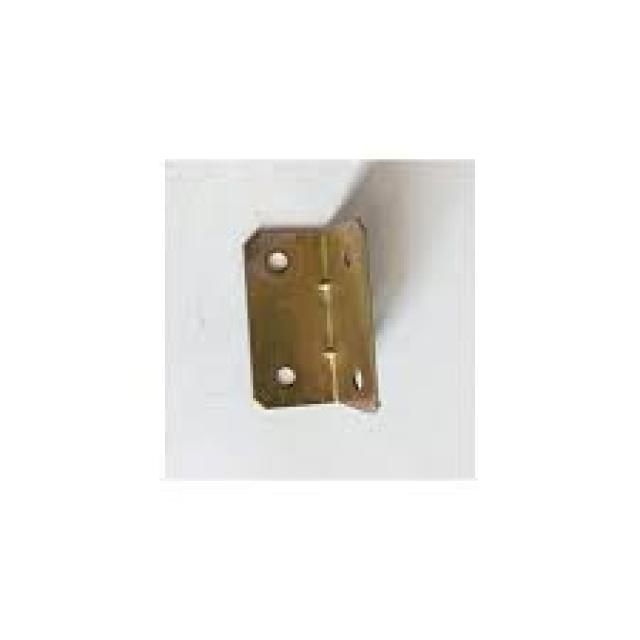holes: (260, 244, 292, 272), (271, 359, 298, 386)
